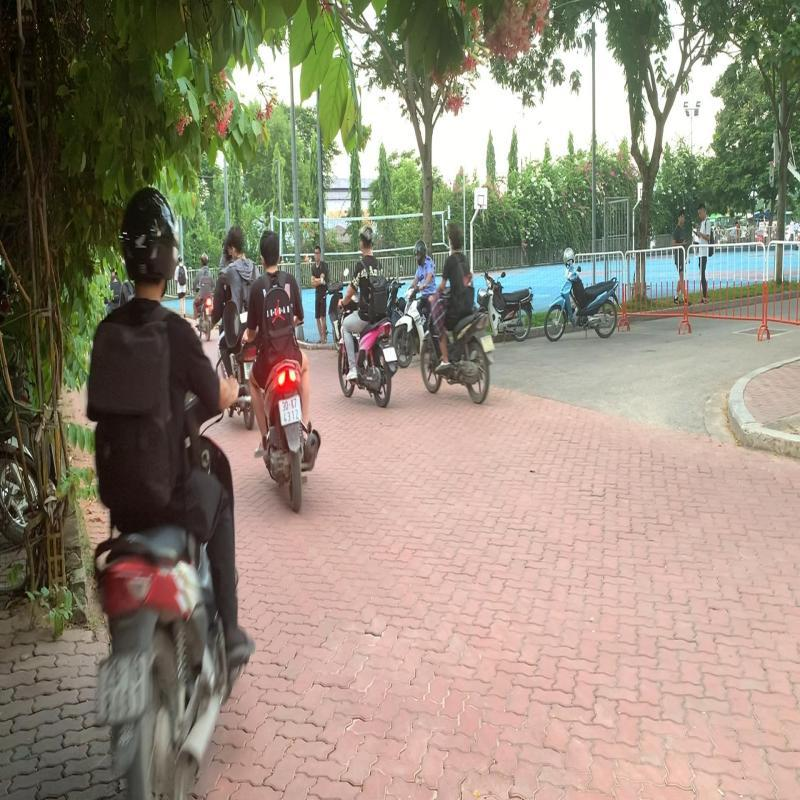nohelmet: (258, 225, 281, 267), (224, 219, 248, 256), (358, 222, 377, 253), (446, 218, 462, 252)
